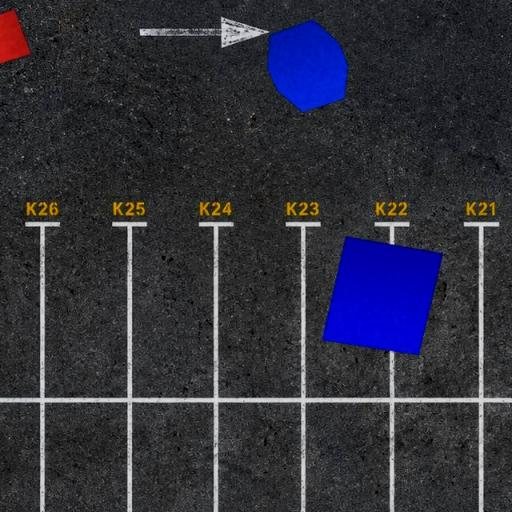BLUE_SQUARE: (322, 235, 444, 356)
RED_SQUARE: (0, 8, 32, 70)
